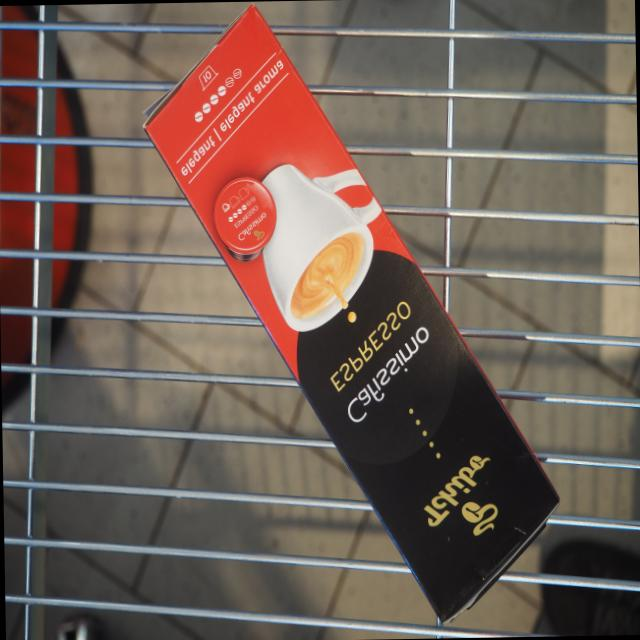Simo Es Elegant: (135, 1, 569, 632)
